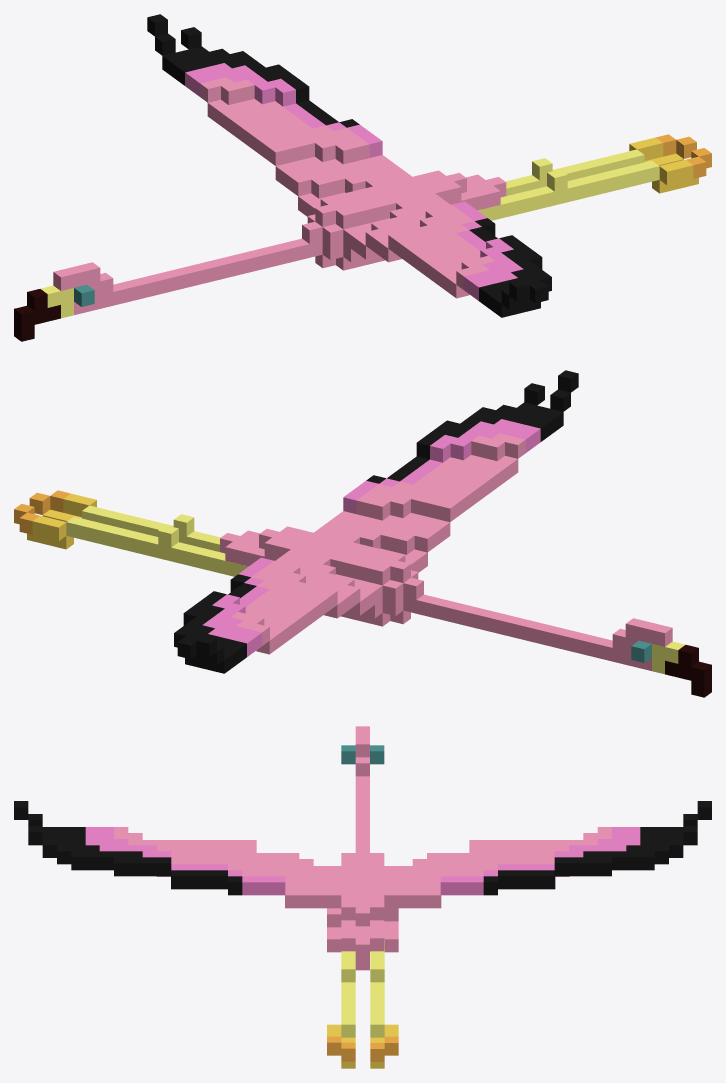
Rendered from flamingos.fbx.
3 renders of one model, top to bottom at view 1: azimuth 30°, elevation 25°; view 2: azimuth 150°, elevation 25°; view 3: azimuth 270°, elevation 25°, orthographic. The views are drawn at different scales.
Parts seen in each view (by area): view 1: body, head, wing2_rith, wing1_rith, wing2_left, leg_left, wing1_left, wing3_rith, leg_rith, wing3_left; view 2: body, head, wing2_left, wing1_left, wing2_rith, leg_rith, wing1_rith, wing3_left, leg_left, wing3_rith; view 3: body, wing1_rith, wing1_left, wing2_rith, wing2_left, head, wing3_rith, wing3_left, leg_rith, leg_left.
Boxes of the visible parts, box(x1,y1,x2,y2) form: body: box(298, 170, 506, 270); head: box(14, 238, 309, 341); wing2_rith: box(207, 99, 382, 165); wing1_rith: box(147, 14, 309, 106); wing2_left: box(388, 201, 497, 298); leg_left: box(477, 148, 711, 220); wing1_left: box(456, 235, 551, 317); wing3_rith: box(275, 155, 404, 198); leg_rith: box(505, 134, 696, 195); wing3_left: box(365, 198, 450, 262); body: box(220, 526, 427, 626); head: box(416, 594, 711, 697); wing2_left: box(343, 455, 518, 521); wing1_left: box(416, 370, 578, 462); wing2_rith: box(228, 557, 337, 654); leg_rith: box(14, 504, 248, 576); wing1_rith: box(174, 591, 269, 673); wing3_left: box(321, 511, 450, 554); leg_left: box(29, 490, 220, 551); wing3_rith: box(275, 554, 360, 618); body: box(313, 847, 412, 970); wing1_rith: box(554, 801, 711, 876); wing1_left: box(14, 801, 171, 876); wing2_rith: box(440, 840, 583, 895); wing2_left: box(142, 840, 285, 895); head: box(341, 726, 384, 846); wing3_rith: box(398, 853, 469, 908); wing3_left: box(256, 853, 327, 908); leg_rith: box(370, 940, 398, 1068); leg_left: box(327, 951, 355, 1068).
Bounding box in the file's own units: 521 × 80 × 488.
